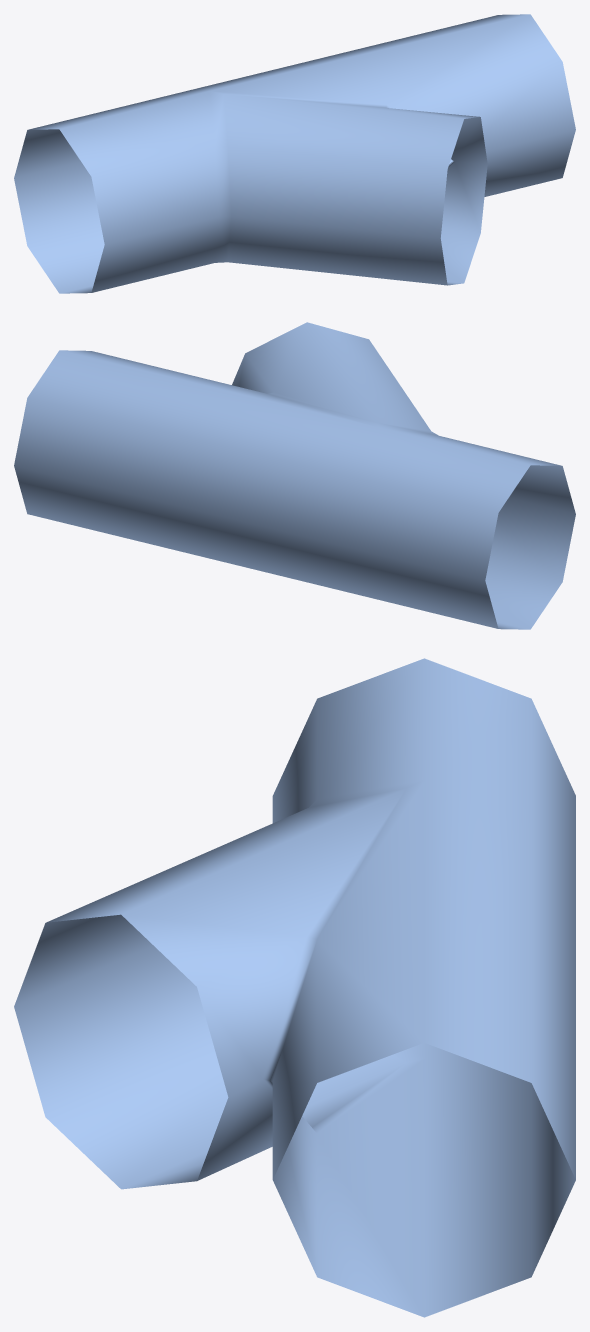
File: PipeSmall_Cross_Y.fbx
The picture shows the model from 3 angles, top to bottom: view 1: azimuth 30°, elevation 25°; view 2: azimuth 150°, elevation 25°; view 3: azimuth 270°, elevation 25°; orthographic projection. The views are drawn at different scales.
Visible parts, largest first — view 1: PipeSmall_Cross_Y.001; view 2: PipeSmall_Cross_Y.001; view 3: PipeSmall_Cross_Y.001.
Part boxes in pixels (x1,y1,x2,y2): PipeSmall_Cross_Y.001: [14, 14, 575, 293]; PipeSmall_Cross_Y.001: [14, 322, 575, 629]; PipeSmall_Cross_Y.001: [14, 658, 575, 1317].
Size of the model in its own units: 0.3 by 0.1013 by 0.1854.
